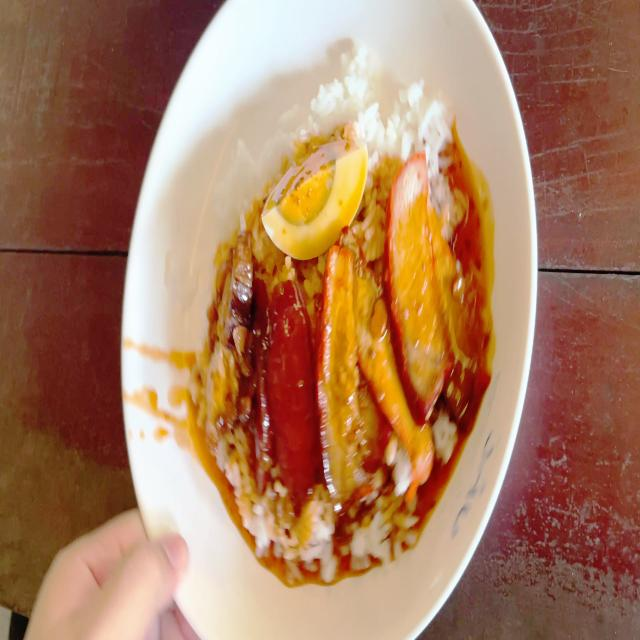boiled_egg: (273, 147, 369, 255)
chainese_sausage: (252, 282, 318, 490)
crispy_pork: (209, 232, 252, 418)
red_pork: (323, 164, 454, 480)
red_pork_and_crispy_pork: (200, 47, 479, 568)
rice: (326, 56, 455, 156), (241, 494, 336, 568), (214, 150, 265, 218)
